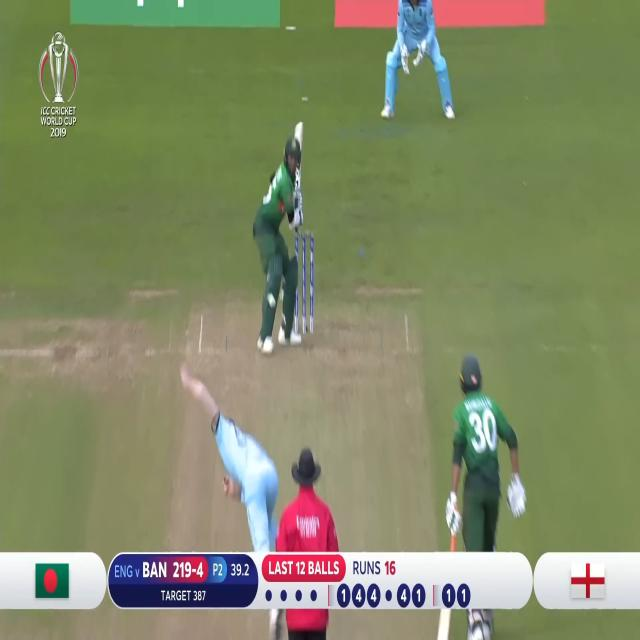ball: (265, 290, 279, 308)
